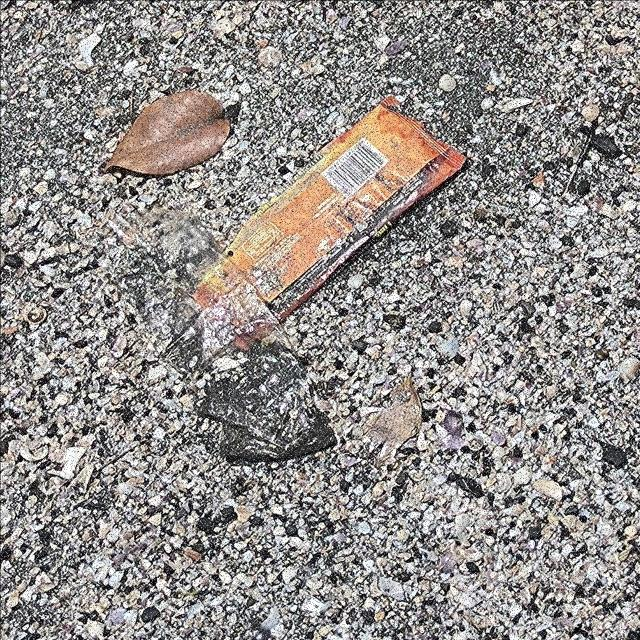plastic_waste: (193, 95, 470, 351)
